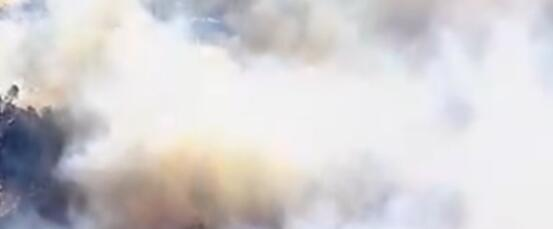yanwu: (25, 1, 553, 227)
